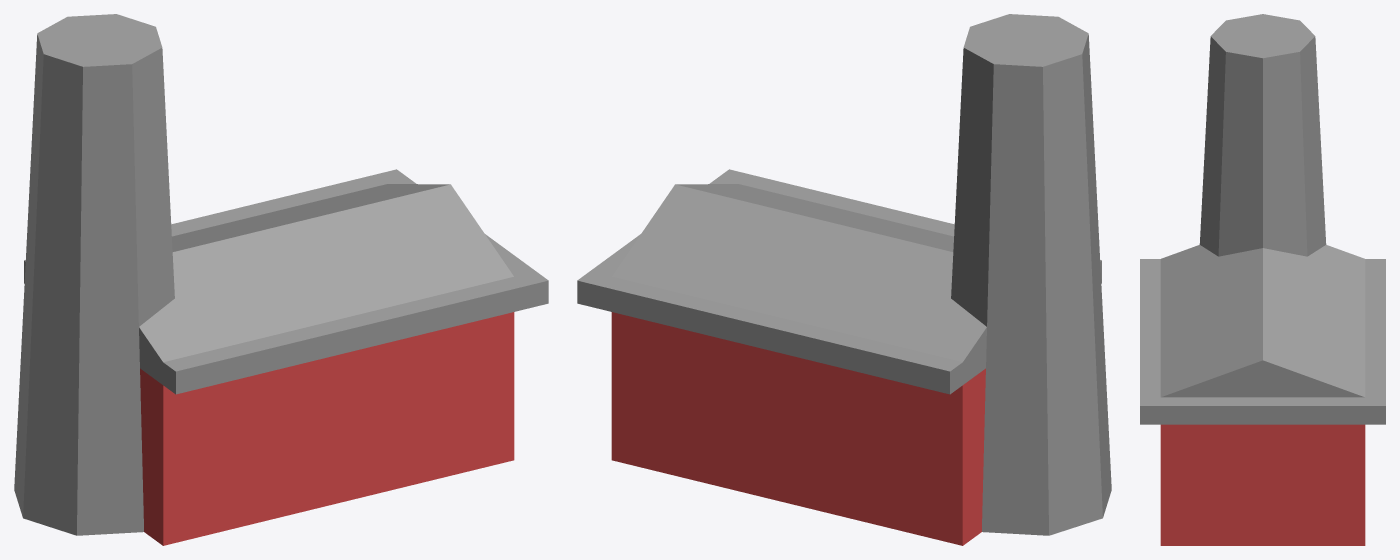
Rendered from tile_factory_normal.fbx.
The picture shows the model from 3 angles, left to right: view 1: azimuth 30°, elevation 25°; view 2: azimuth 150°, elevation 25°; view 3: azimuth 270°, elevation 25°; orthographic projection. The views are drawn at different scales.
Visible parts, largest first — view 1: Building; view 2: Building; view 3: Building.
Boxes of the visible parts, box(x1,y1,x2,y2) form: Building: box(14, 14, 548, 545); Building: box(577, 14, 1111, 545); Building: box(1140, 14, 1385, 545).
Size of the model in its own units: 2.05 by 2 by 1.2.
